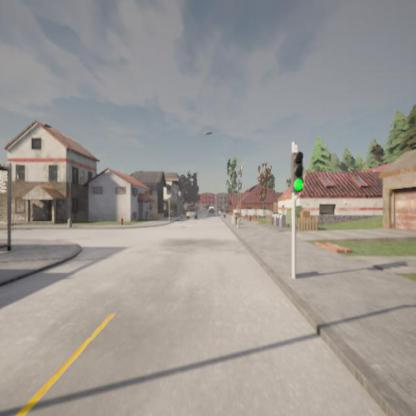traffic_light_green: (291, 149, 304, 192)
